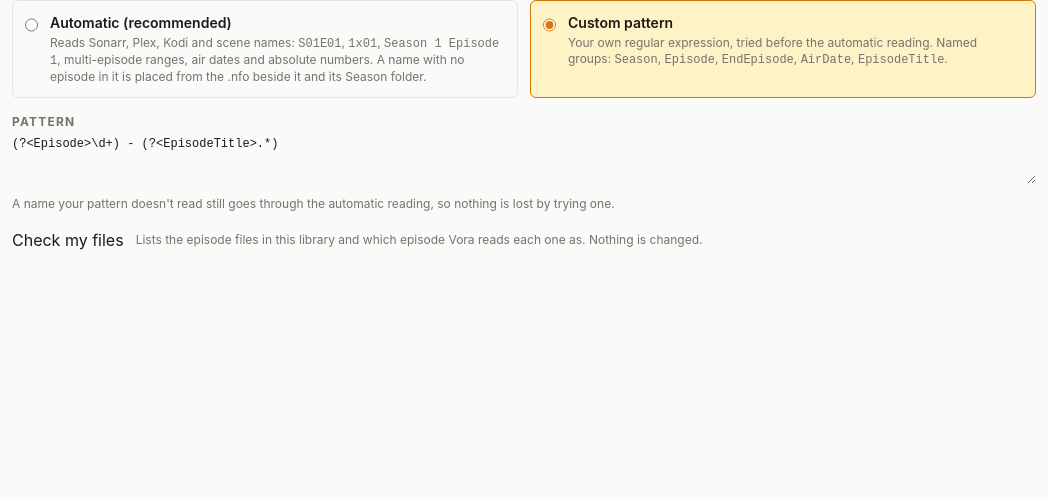
Test: says a result is out of date once the pattern changes
Click the button "Check my files" at point(68, 240), box [12,228,124,252]
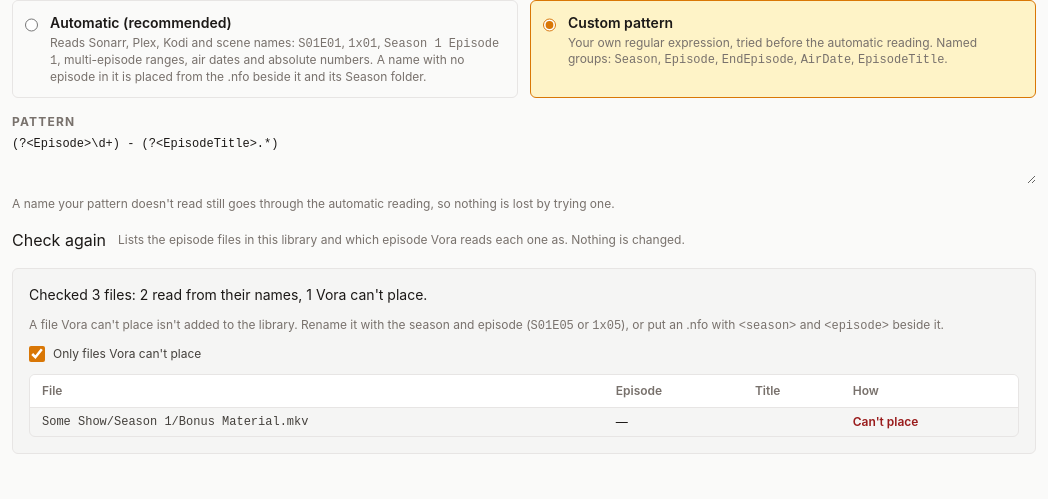
Expected: the text "Checked 3 files" is shown, [29,286,427,303]
Replace the text in the text box labelled "Pattern" with "(?<Episode>\\d+)" at point(524, 160), box [12,136,1036,184]
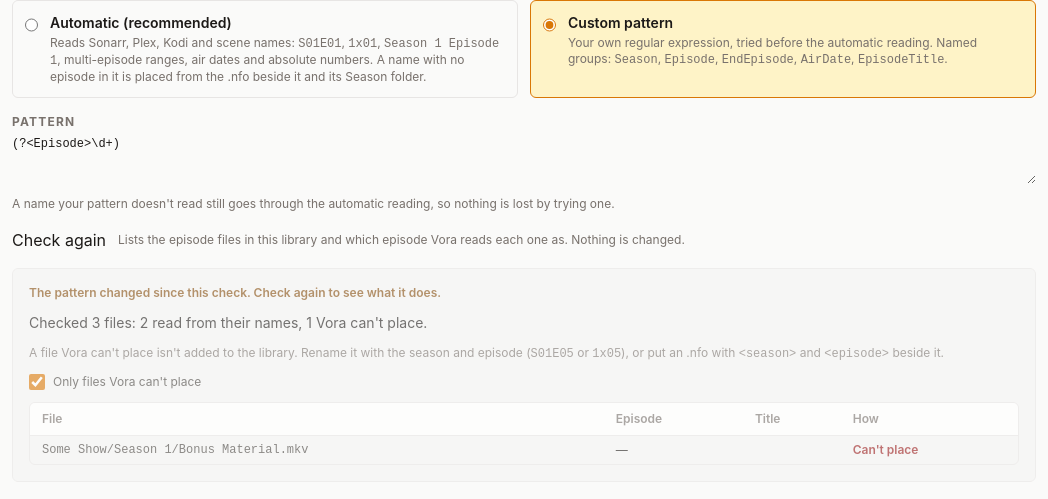
Expected: the text "The pattern changed since this check" is shown, [29,285,441,300]
